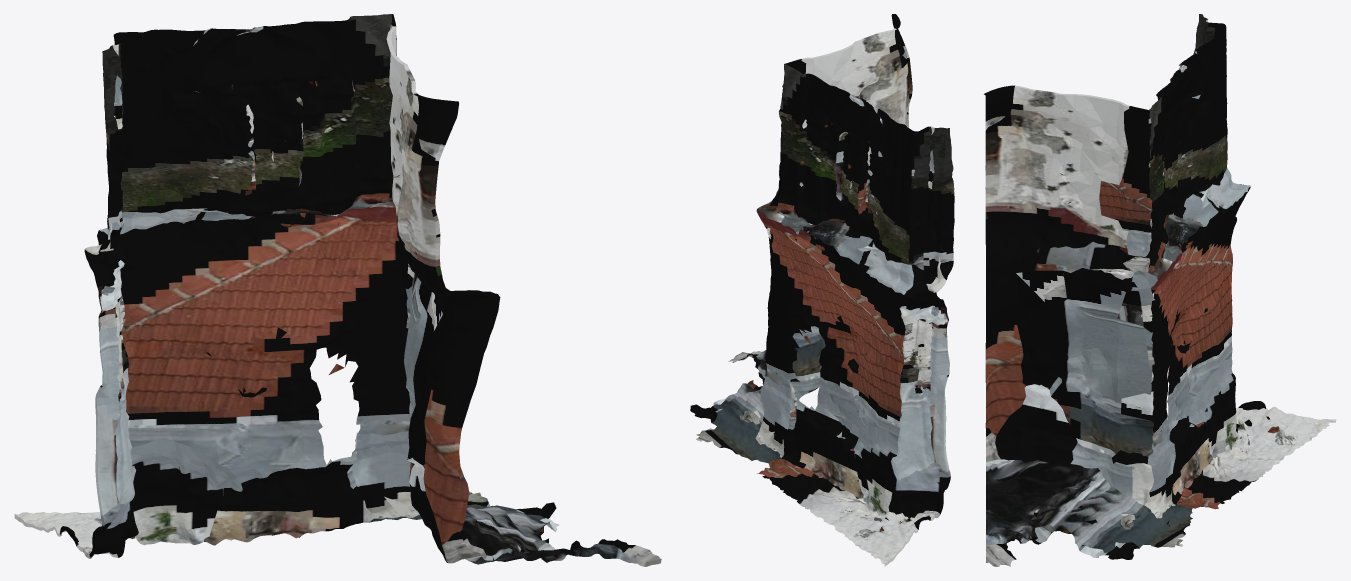
3 renders of one model, left to right at view 1: azimuth 30°, elevation 25°; view 2: azimuth 150°, elevation 25°; view 3: azimuth 270°, elevation 25°, orthographic. The views are drawn at different scales.
Visible parts, largest first — view 1: node_58; view 2: node_58; view 3: node_58.
Boxes of the visible parts, x1,y1,x2,y2 form: node_58: (14,14,661,566); node_58: (690,14,954,566); node_58: (984,14,1336,566).
Size of the model in its own units: 8.2 by 9.81 by 7.68.
Materials: 1 (1 with a texture image).
